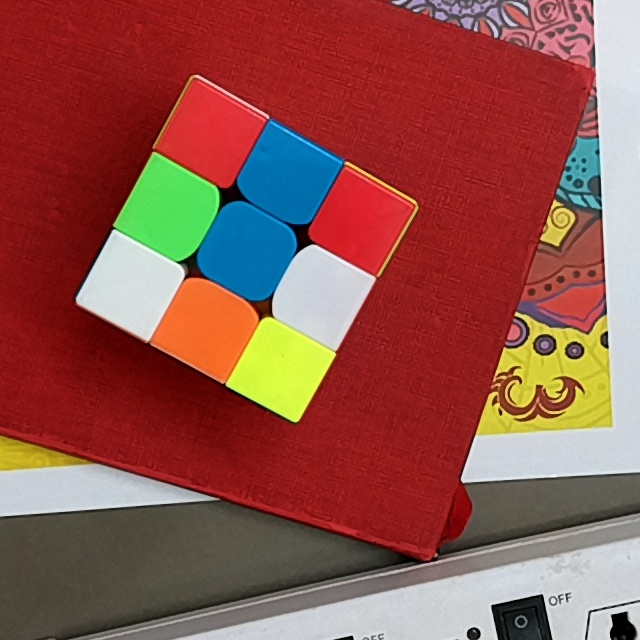tile: (177, 298, 240, 356), (215, 222, 275, 282), (140, 180, 201, 239), (181, 102, 239, 164), (100, 257, 159, 316), (257, 148, 315, 207), (291, 268, 348, 325), (332, 196, 387, 252), (252, 344, 307, 397)
